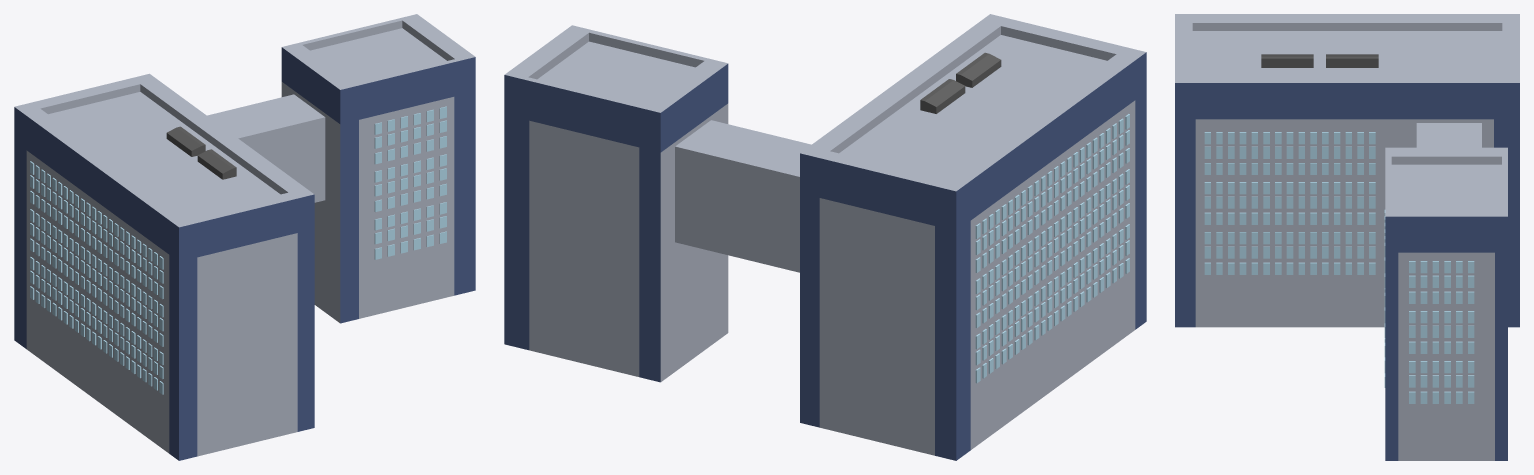
File: ligonine.fbx
The picture shows the model from 3 angles, left to right: view 1: azimuth 30°, elevation 25°; view 2: azimuth 150°, elevation 25°; view 3: azimuth 270°, elevation 25°; orthographic projection. The views are drawn at different scales.
Visible parts, largest first — view 1: ligoninė; view 2: ligoninė; view 3: ligoninė.
Part boxes in pixels (box(x1,y1,x2,y2)): ligoninė: box(14, 14, 475, 460); ligoninė: box(504, 14, 1146, 460); ligoninė: box(1175, 14, 1519, 460).
Bounding box in the file's own units: 700 × 400 × 500.
